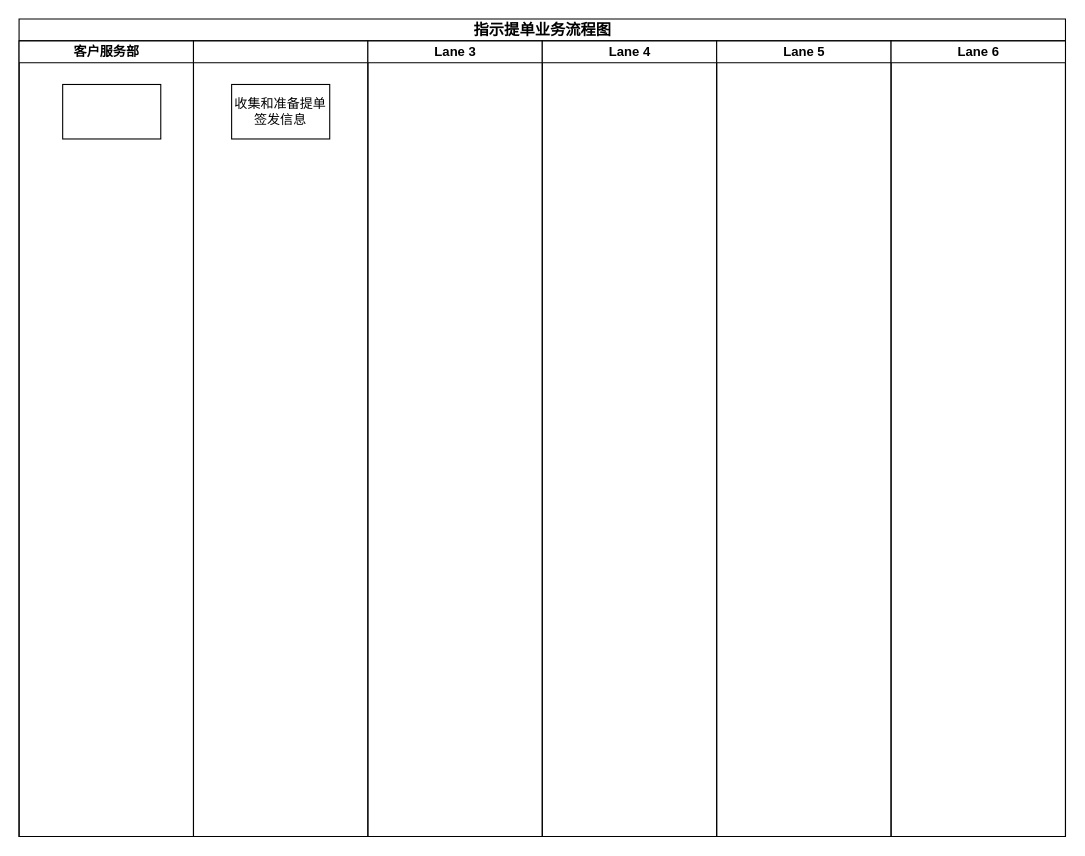
Image size: 1085x856. Some labels were removed from this diagram. The box of each missing label's shape, as (x1, y1, x2, y2) in pixels:
Lane 2: (192, 40, 368, 837)
处理客户提单签发请求: (62, 83, 161, 139)
